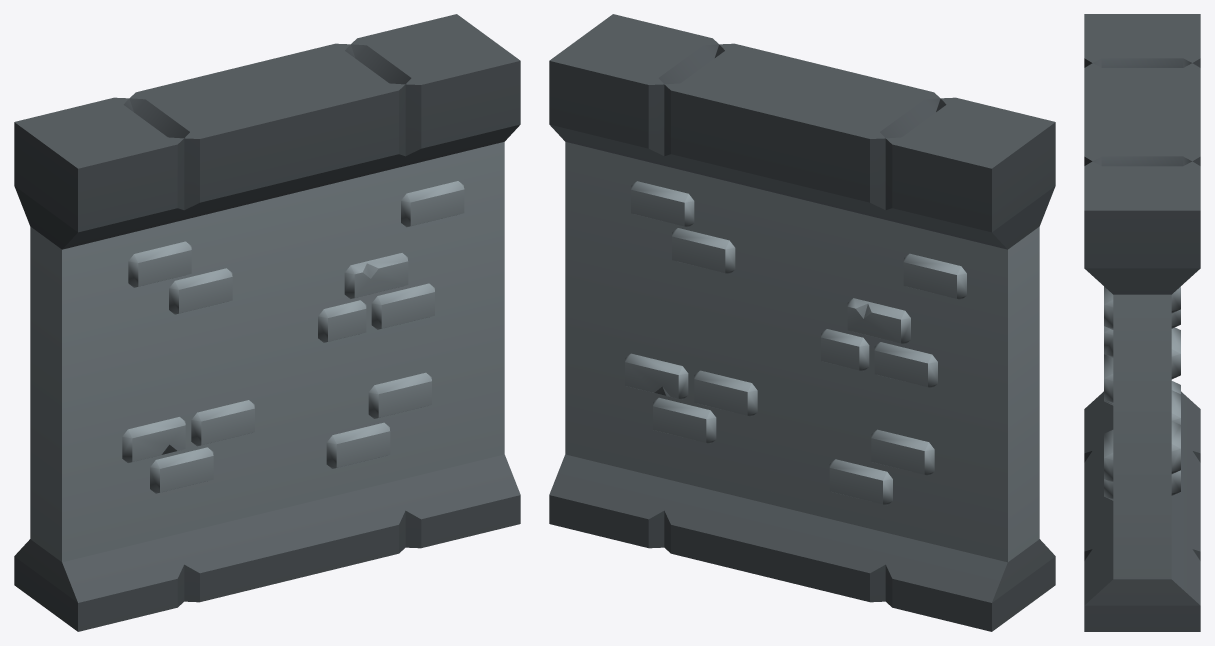
Rendered from wall.gltf.
3 views of the same model, side by side, from view 1: azimuth 30°, elevation 25°; view 2: azimuth 150°, elevation 25°; view 3: azimuth 270°, elevation 25° (orthographic). The views are drawn at different scales.
Visible parts, largest first — view 1: wall; view 2: wall; view 3: wall.
Part boxes in pixels (x1=…): wall: x1=14, y1=14, x2=520, y2=631; wall: x1=549, y1=14, x2=1055, y2=631; wall: x1=1084, y1=14, x2=1200, y2=631.
Size of the model in its own units: 4 by 4 by 1.
Materials: 1 (1 with a texture image).
